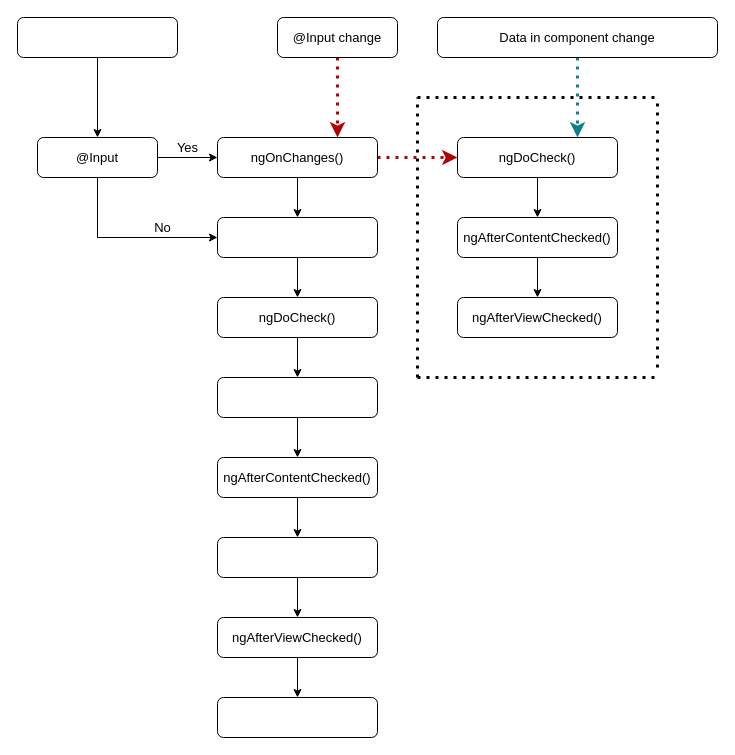
This 735x755 diagram has some shape labels left out. The shapes that lost their labels are listed below. From the top down, each one's centre as x and y in pixels, then its label:
(97,37): Component/Directive Constructor
(297,237): ngOnInit()
(297,397): ngAfterContentInit()
(297,557): ngAfterViewInit()
(297,717): ngDestroy()
